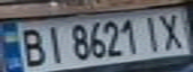1: (118, 16, 142, 55)
2: (103, 17, 124, 59)
6: (87, 19, 109, 61)
8: (66, 20, 90, 61)
B: (15, 25, 48, 69)
I: (39, 22, 69, 65), (139, 12, 166, 53)
X: (154, 10, 190, 51)
